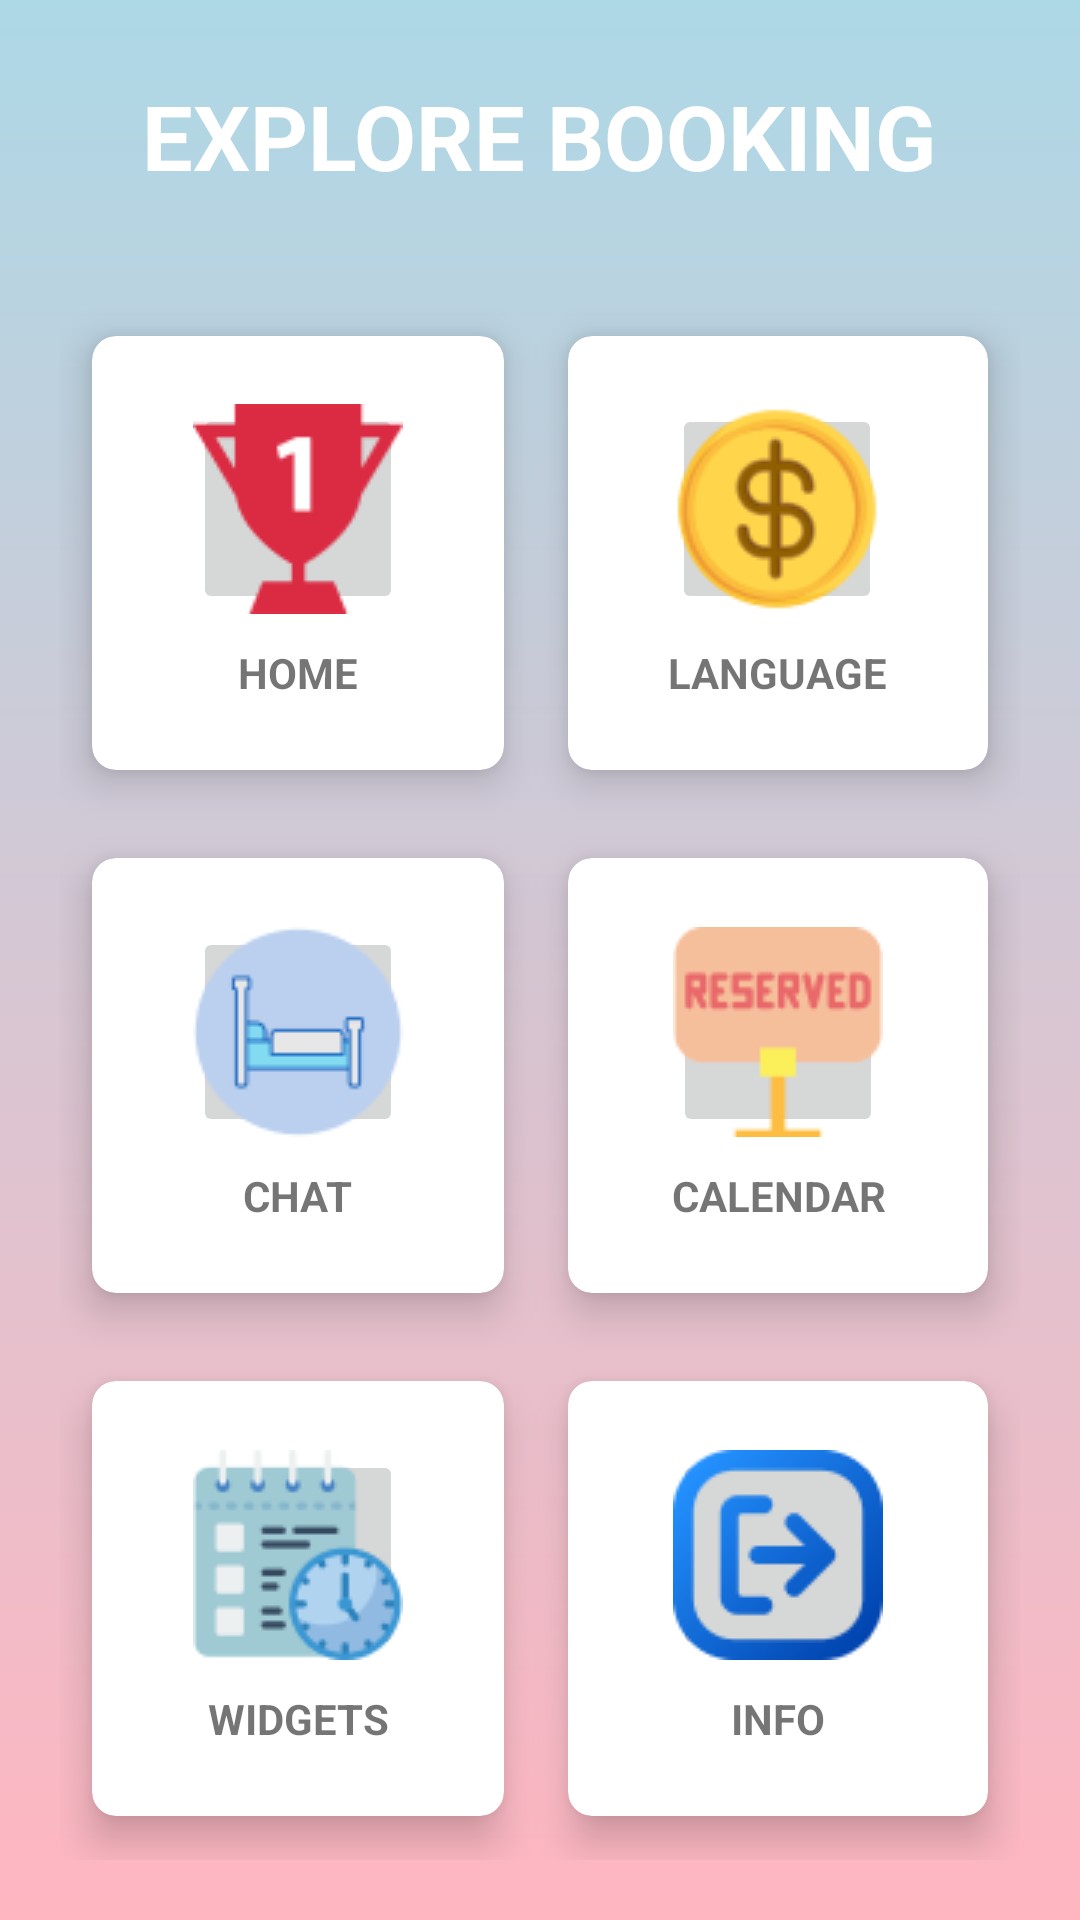

Named icons in this screenshot (1080w x 1920h) and their centers, point (x, y):
cama: point (298, 1032)
cerrar sesion: point (778, 1555)
historial: point (298, 1563)
precio: point (777, 509)
trophy: point (298, 509)
